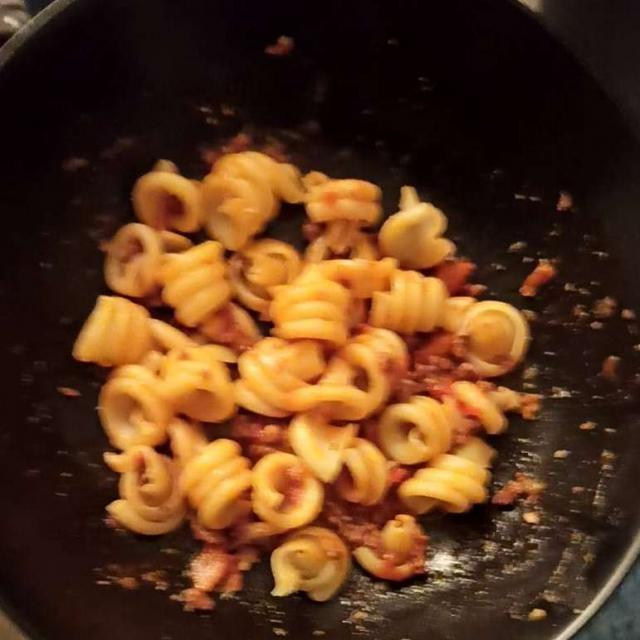pasta: (94, 160, 524, 597)
